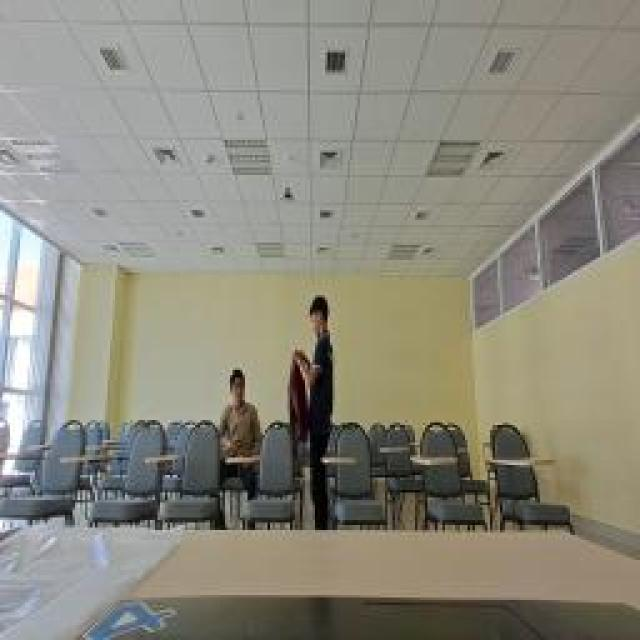study: (217, 367, 265, 455)
